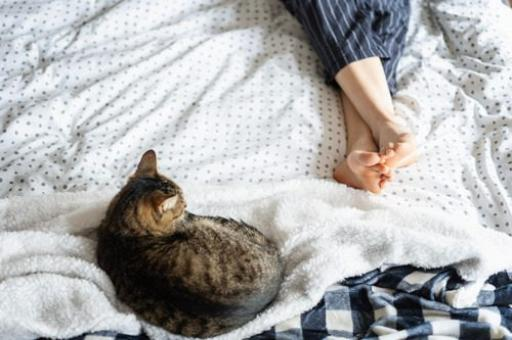cat_sleeping: (97, 151, 283, 338)
